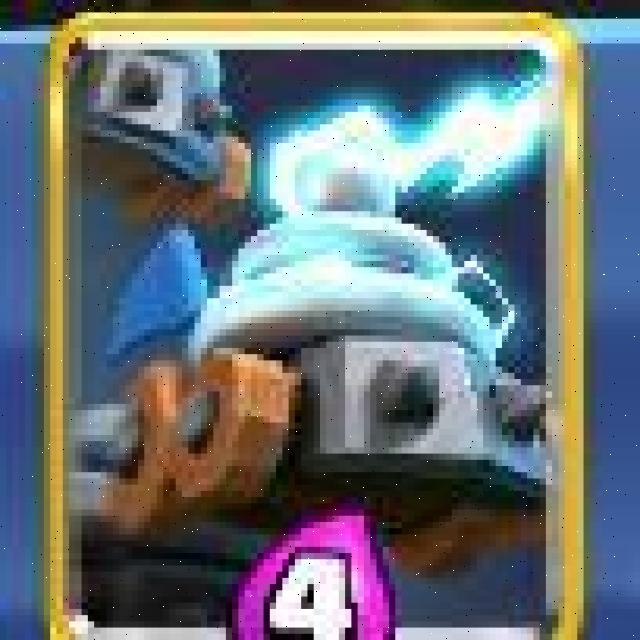Zappies: (46, 11, 586, 640)
